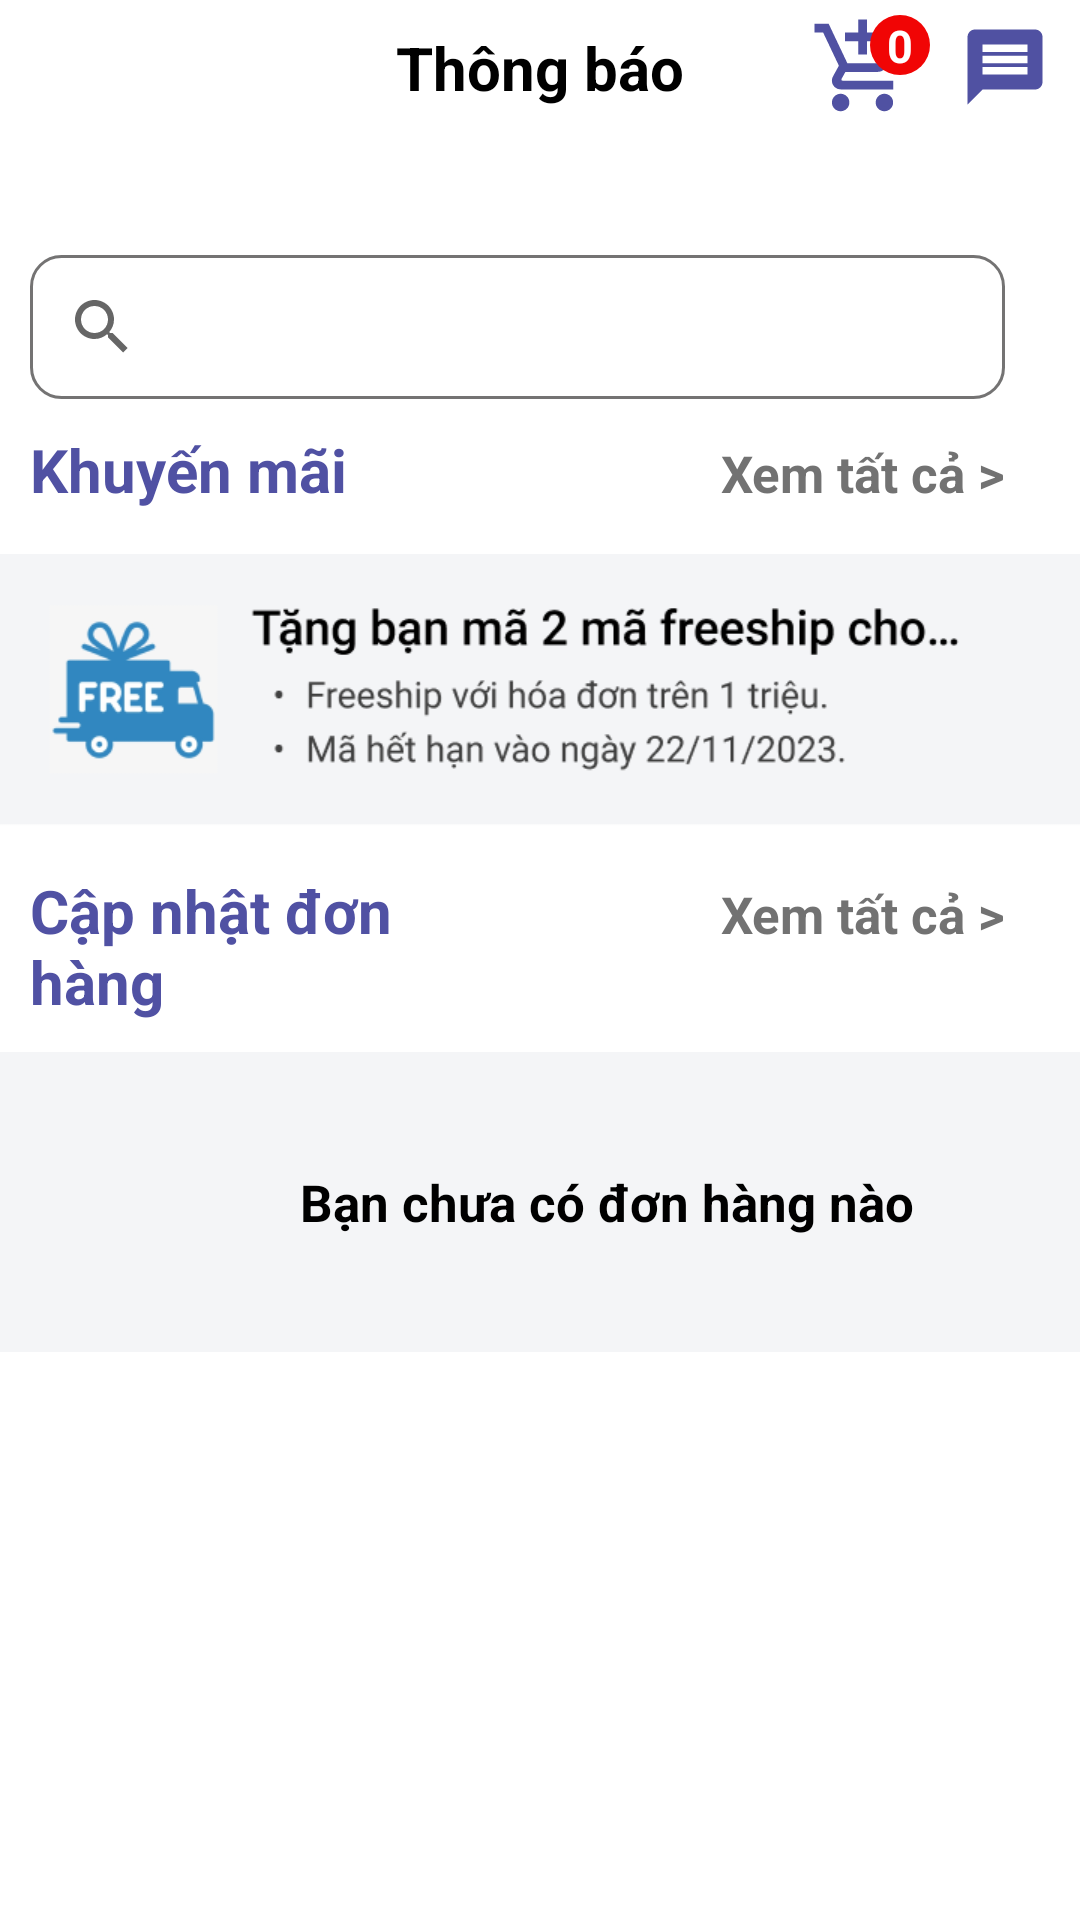

Icons on this 1080w x 1920h Android screen, each with its box as (x1,y1,x2,y2):
cart: (814,15,915,112)
chat: (967,29,1043,105)
